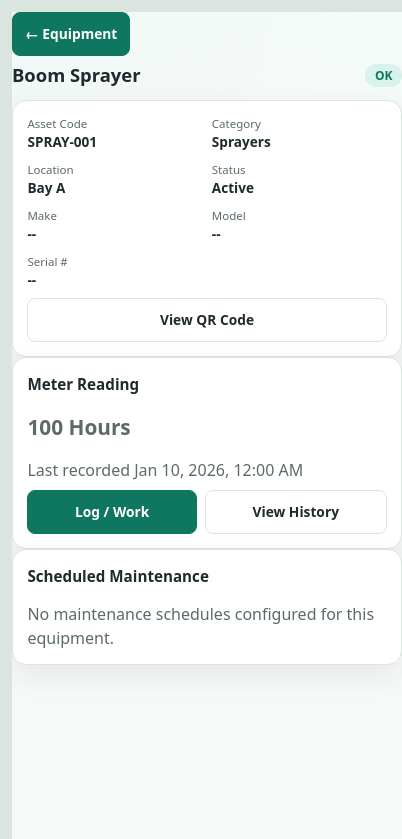
MobileMaintenanceEquipmentDetailPage — Log / Work and unified history › renders the unified history newest-first, mixing work logs, meter readings, and schedule completions without duplication
The width and height of the screenshot is (402, 839).
Click the button "View History" at (296, 512), box [205,490,387,534]
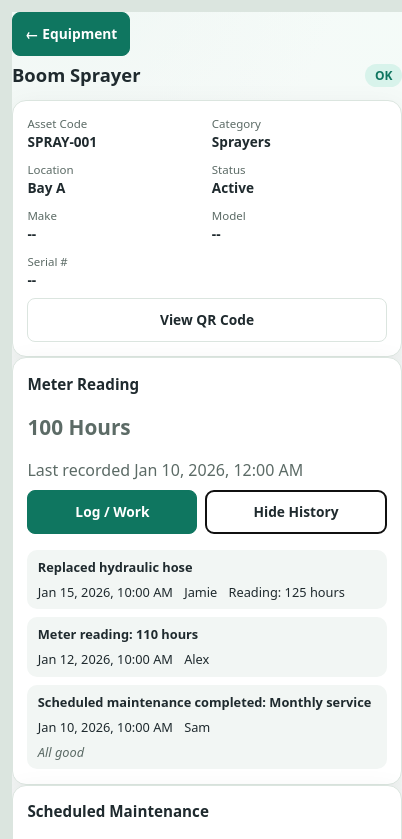
Check: the text "Replaced hydraulic hose" is shown 3 times, box [38,558,193,576]; [38,625,198,643]; [38,693,376,711]
Check: the text "Replaced hydraulic hose" is shown, box [38,558,193,576]
Check: the text "Meter reading: 110 hours" is shown, box [38,625,198,643]
